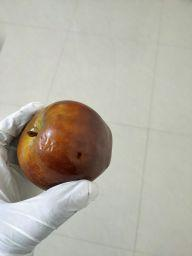Apple Rotten: (15, 100, 116, 195)
